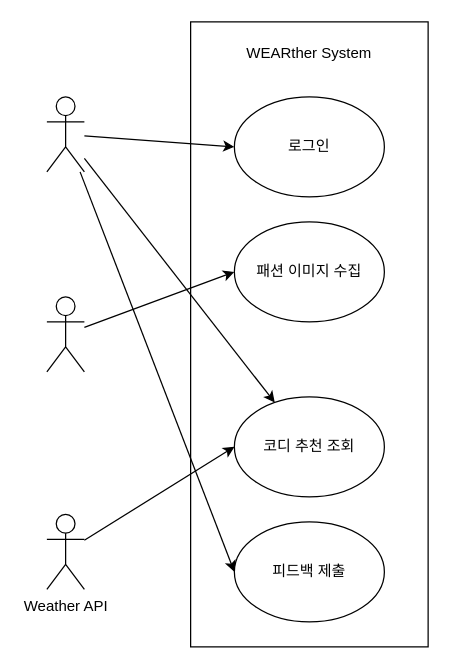
This 450x669 diagram has some shape labels left out. Here are the shapes that lost their labels. From the top down, the centre of each, then its label:
At (x=65, y=134): "사용자".
At (x=65, y=334): "APScheduler".
